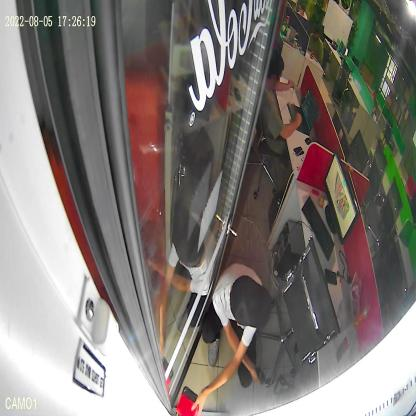red: (175, 385, 200, 416)
